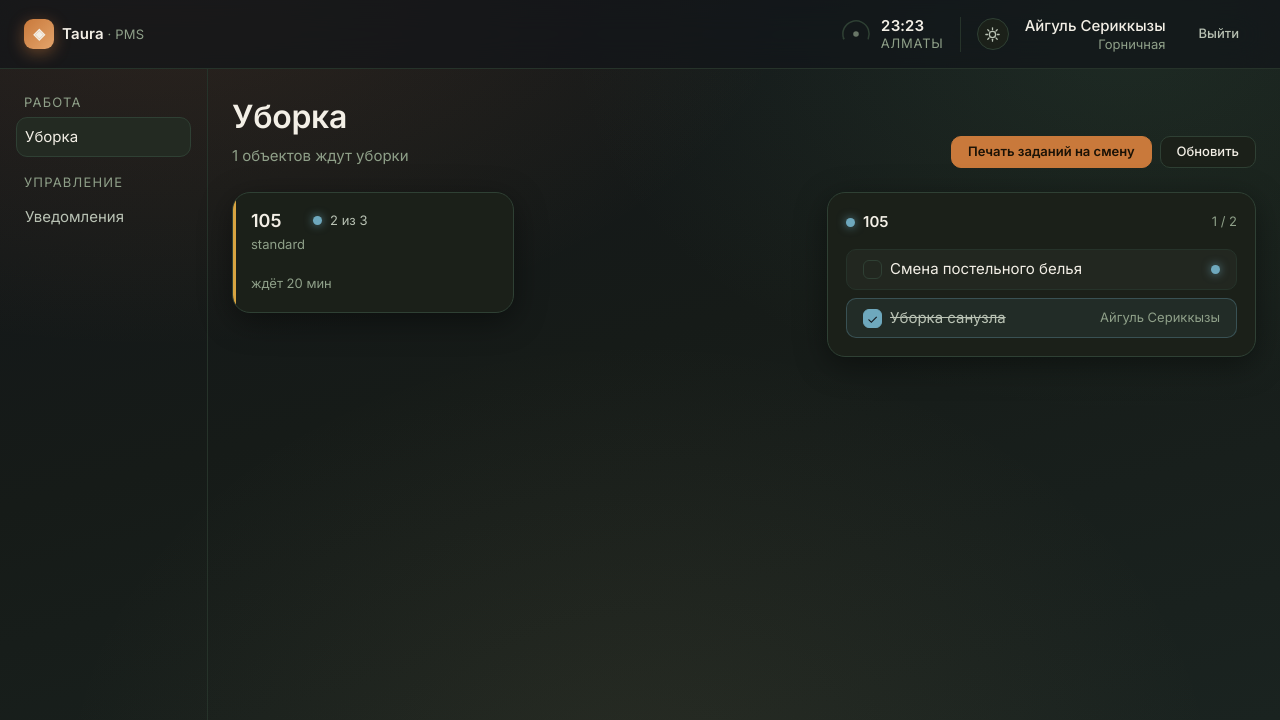
Test: §3 housekeeping shift sheet › renders every unit and its checklist on the printable sheet
What coordinates should you click on to do the following:
click the button "Печать заданий на смену"
I would click on:
 (1051, 152)
Its box is 951,136 -> 1152,168.
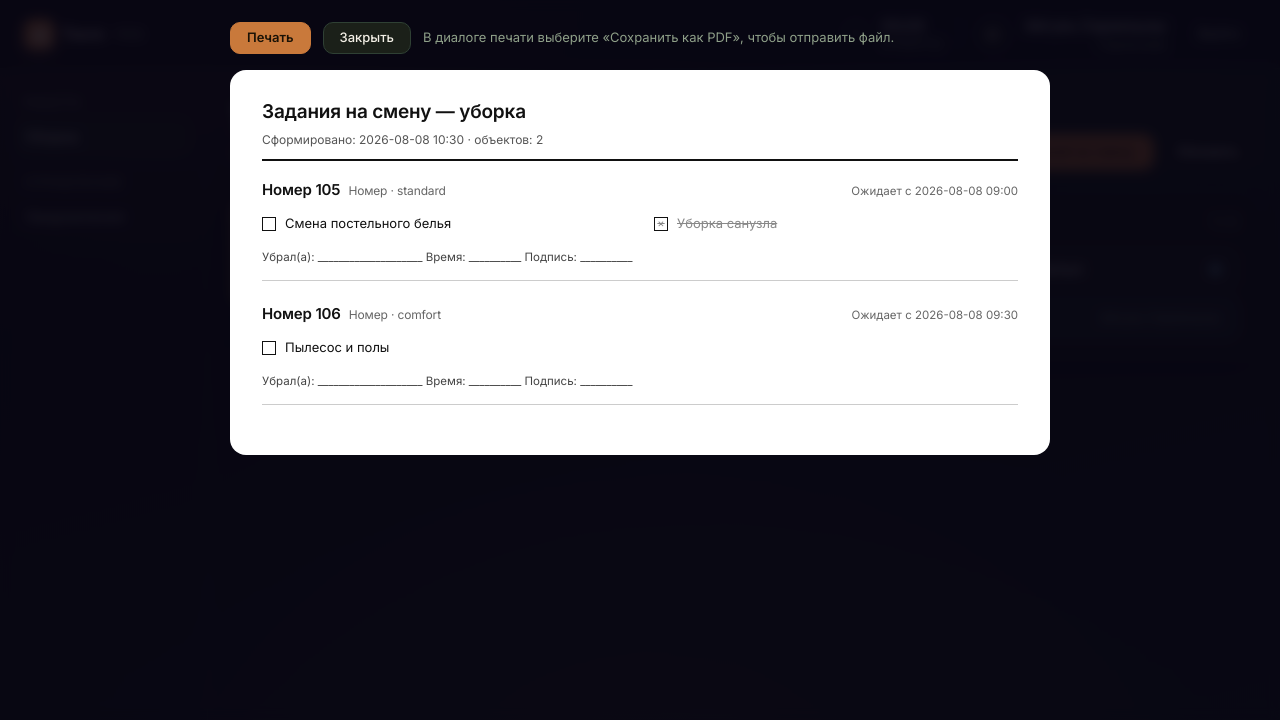
Expected: the heading "Задания на смену — уборка" is shown, 262,100 -> 526,123
Expected: the text "Сформировано: 2026-08-08 10:30 · объектов: 2" is shown, 262,132 -> 543,146
Expected: the list item "Смена постельного белья" is shown, 262,215 -> 451,231
